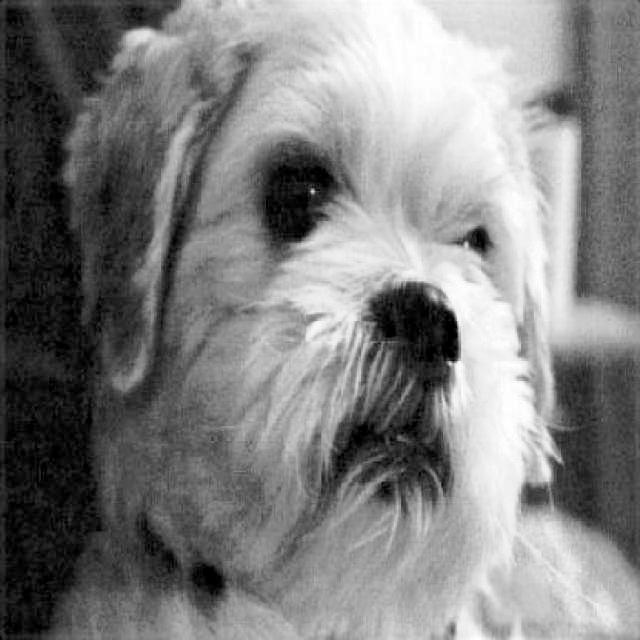Dog: (63, 0, 563, 640)
